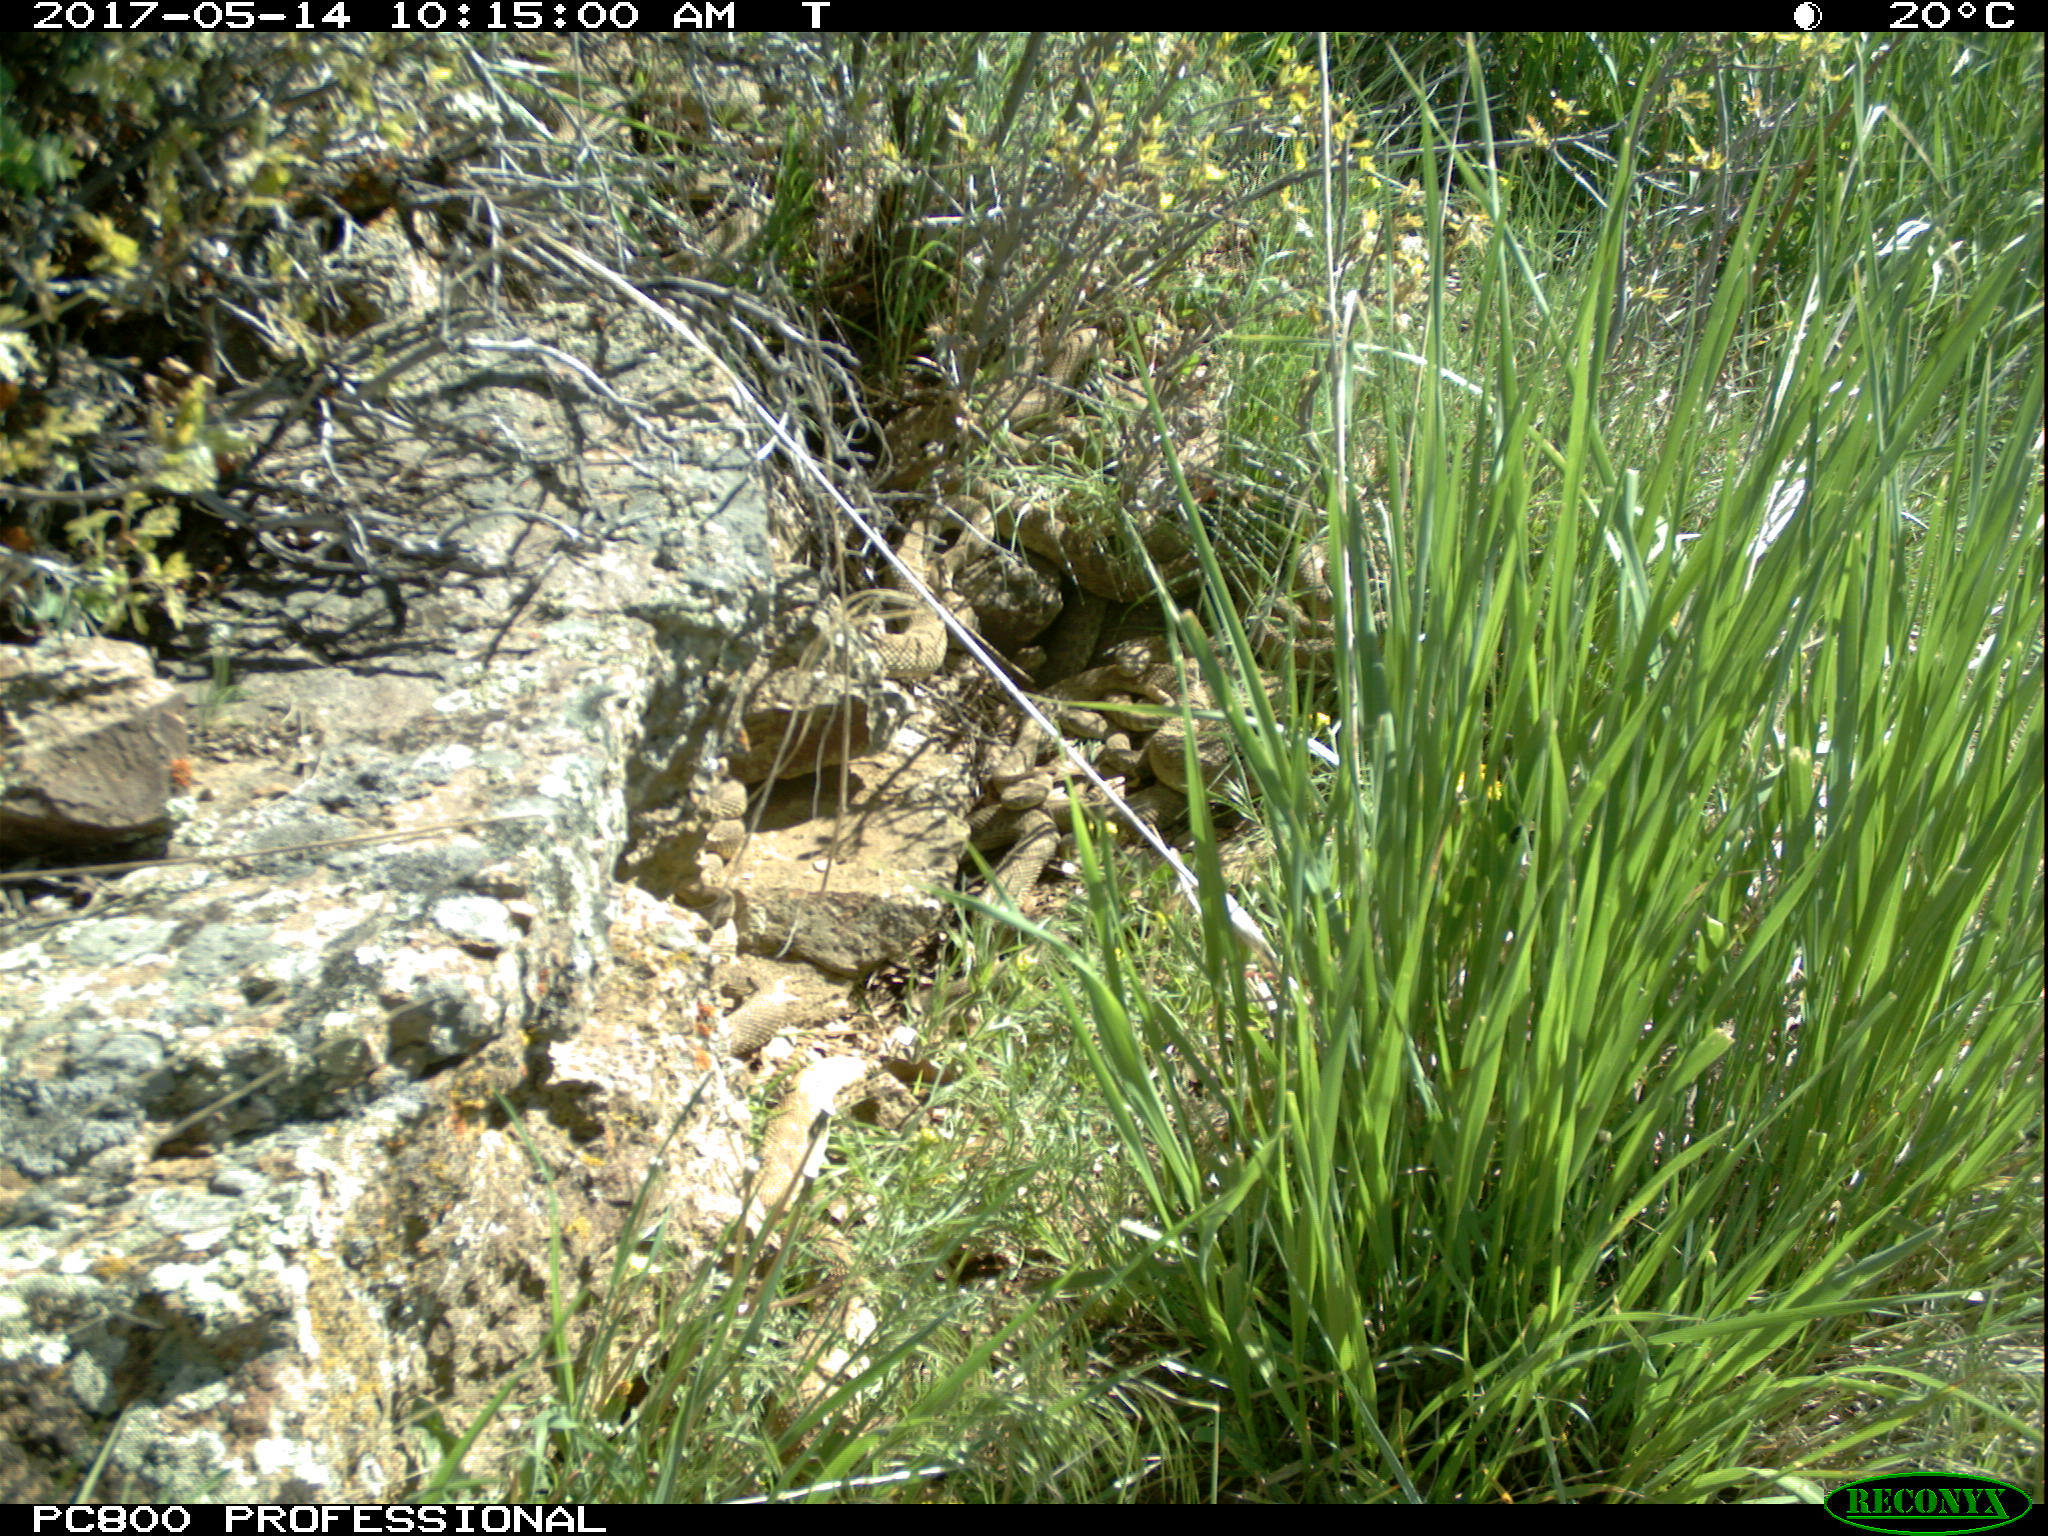snake: (998, 665, 1250, 807), (840, 492, 1005, 666), (995, 503, 1209, 615), (747, 1046, 880, 1217), (1240, 544, 1353, 678), (968, 800, 1061, 925)
